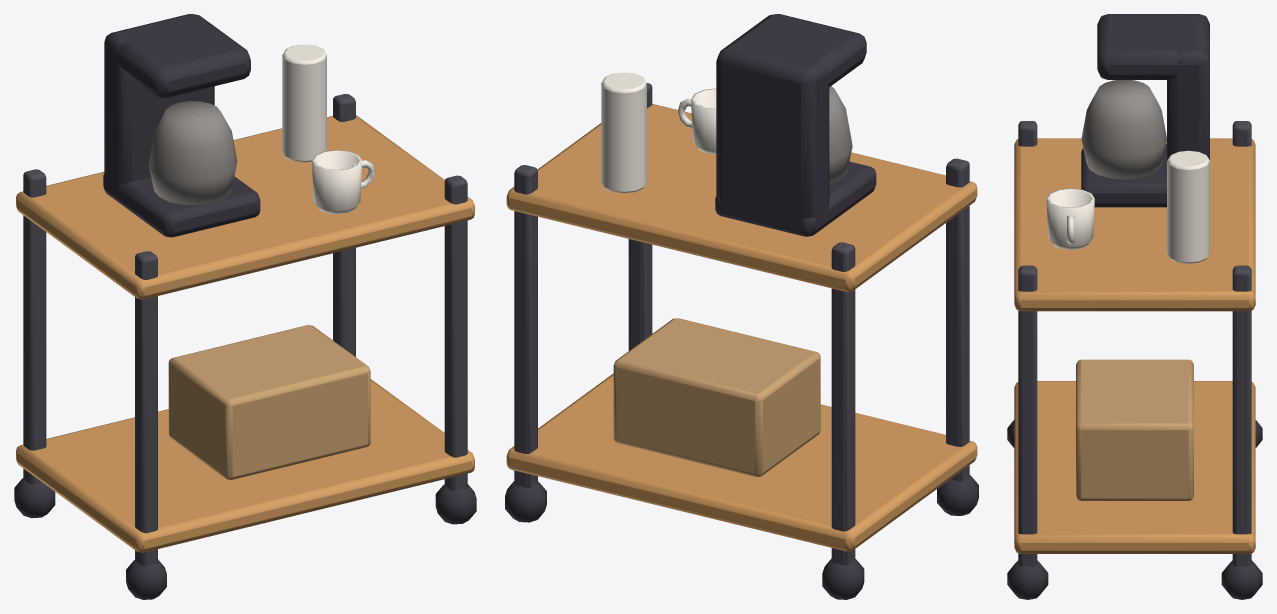
File: espresso_l1.glb
3 renders of one model, left to right at view 1: azimuth 30°, elevation 25°; view 2: azimuth 150°, elevation 25°; view 3: azimuth 270°, elevation 25°, orthographic. The views are drawn at different scales.
Visible parts, largest first — view 1: espresso_l1; view 2: espresso_l1; view 3: espresso_l1.
Part boxes in pixels (x1,y1,x2,y2): espresso_l1: (14,14,476,599); espresso_l1: (505,14,978,599); espresso_l1: (1007,14,1262,599).
Size of the model in its own units: 0.7161 by 0.96 by 0.4761.
